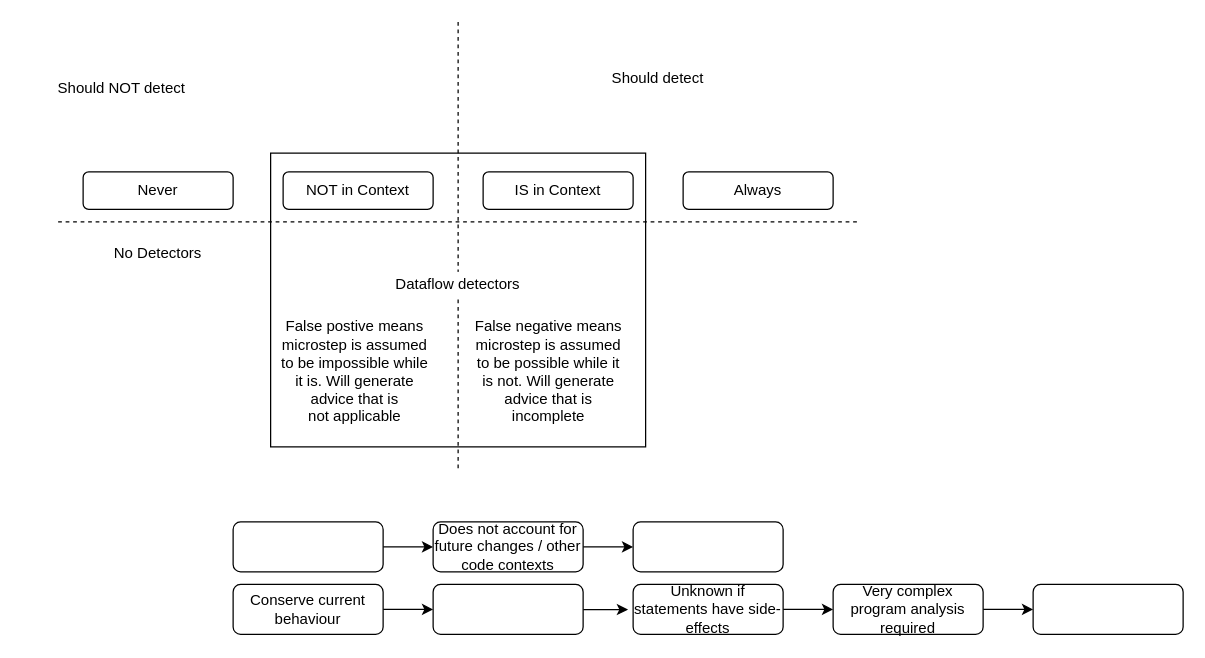
The diagram is 1205 pixels wide and 658 high, and some of its shapes have lost their labels. Here are the shapes that lost their labels. From the top down, the centre of each, then its label:
point (307, 546): Conserve current output
point (707, 546): Unit tests do
point (507, 608): Does not allow ANY refactorings
point (1107, 608): Also requires knowing what external calls mutate
